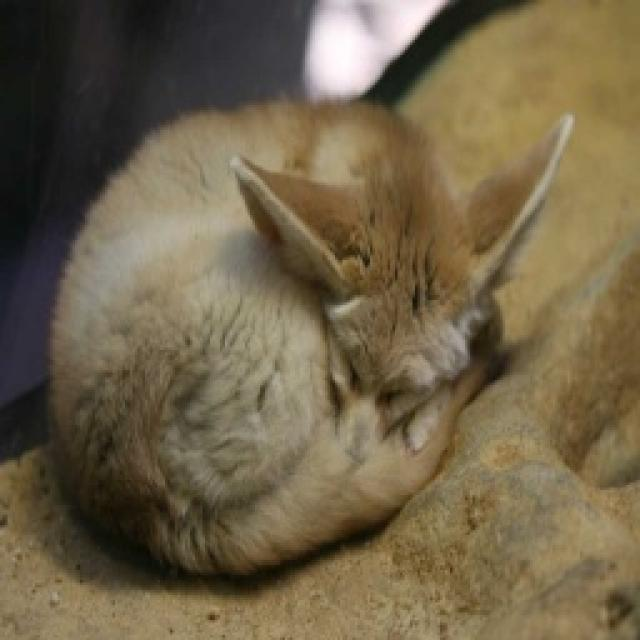Fox: (46, 92, 579, 587)
